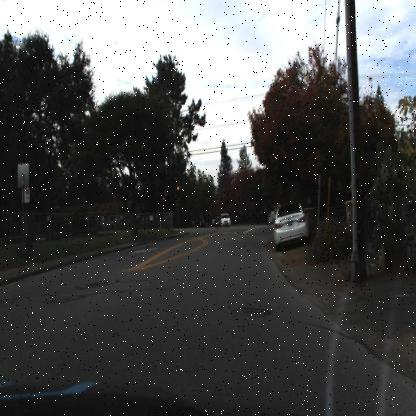car: (269, 196, 313, 252), (220, 208, 234, 231)
trafficLight-Red: (160, 191, 168, 206), (174, 180, 180, 196)
